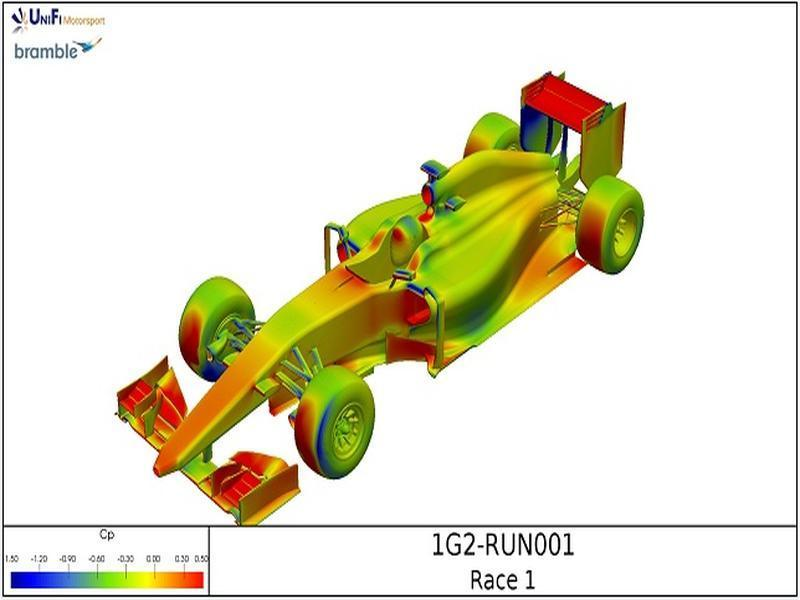f1: (68, 73, 717, 522)
